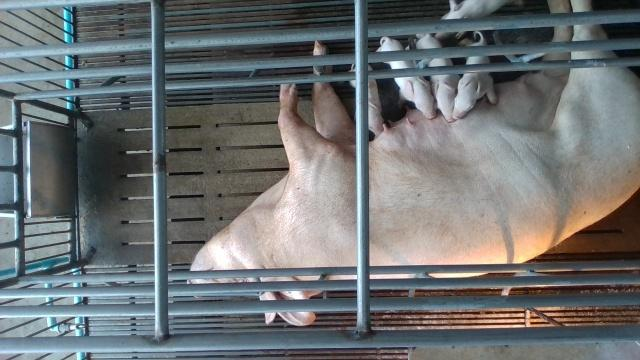piglet: (375, 37, 437, 122), (452, 32, 499, 120), (417, 33, 460, 123), (435, 0, 509, 39), (348, 64, 384, 136)
sow-sleep-lactate: (187, 0, 640, 326)
